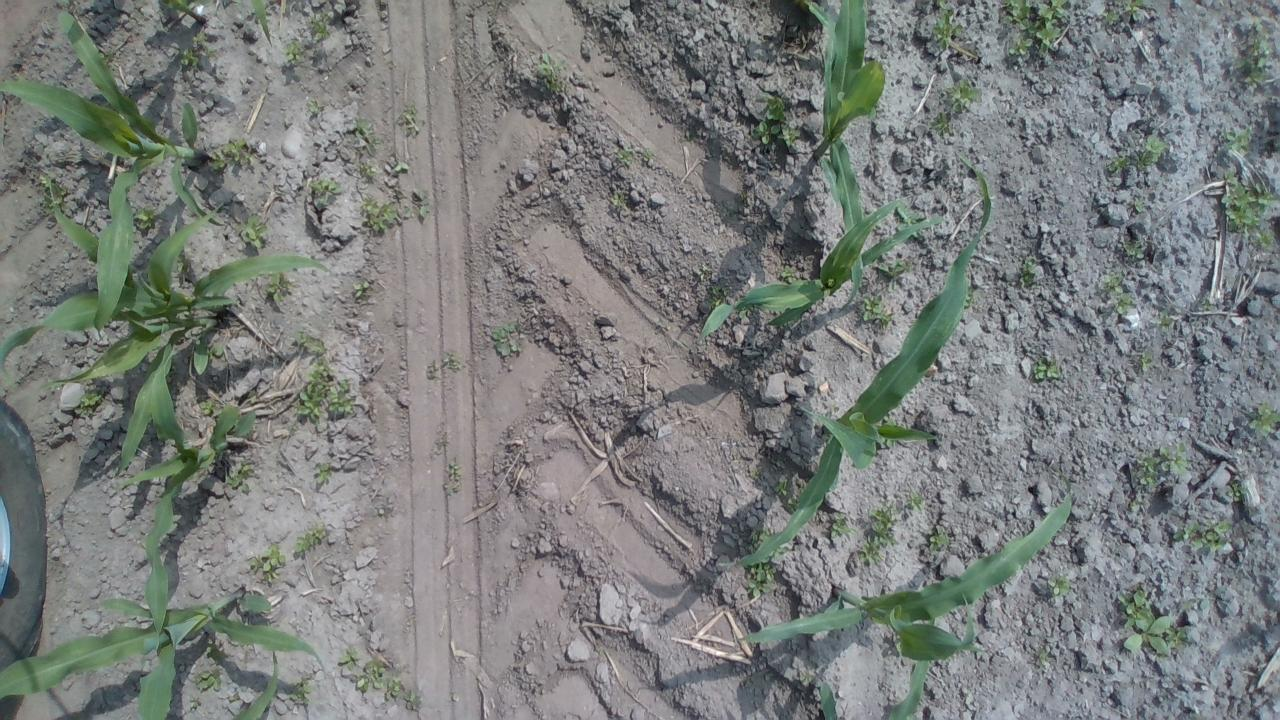Maize: (742, 162, 994, 562), (0, 178, 333, 475), (0, 11, 226, 337), (736, 478, 1076, 660), (116, 343, 256, 655), (1, 587, 328, 720), (700, 204, 944, 338), (802, 0, 888, 310), (821, 655, 930, 720), (166, 0, 276, 45), (232, 648, 282, 720)
Weeds: (1118, 586, 1190, 662), (288, 359, 358, 433), (998, 0, 1070, 56), (1219, 170, 1280, 234), (750, 92, 801, 146), (1136, 442, 1188, 489), (858, 505, 898, 566), (1241, 15, 1270, 92), (928, 0, 964, 49), (1172, 521, 1230, 551), (248, 544, 289, 584), (210, 138, 256, 172), (1104, 270, 1136, 314), (536, 50, 568, 93), (362, 198, 401, 233), (1245, 399, 1280, 438), (750, 526, 786, 562), (943, 78, 981, 112), (264, 270, 298, 306), (860, 294, 894, 329), (878, 256, 912, 291), (224, 459, 256, 496), (893, 199, 923, 238), (39, 173, 66, 216), (240, 213, 272, 249), (1136, 136, 1168, 172), (747, 562, 777, 598), (614, 142, 658, 166), (309, 177, 343, 208), (354, 658, 386, 690), (356, 116, 385, 150), (288, 328, 327, 353), (491, 323, 521, 355), (295, 524, 326, 553), (774, 477, 801, 510), (829, 511, 857, 540), (78, 386, 105, 416), (1225, 126, 1253, 154), (774, 256, 801, 284), (288, 676, 314, 705), (307, 9, 330, 40), (192, 669, 222, 691), (132, 205, 156, 232), (1032, 358, 1060, 381), (927, 526, 950, 554), (338, 646, 362, 672), (1018, 255, 1036, 287), (176, 46, 198, 72), (1047, 574, 1073, 596), (1106, 154, 1130, 177), (930, 110, 951, 136), (1252, 228, 1276, 250), (446, 462, 461, 496), (384, 676, 402, 704), (282, 42, 304, 64), (708, 285, 731, 306), (1122, 238, 1146, 258), (1224, 482, 1248, 502), (206, 638, 223, 666), (403, 105, 417, 138), (906, 490, 926, 511), (353, 280, 371, 302), (1120, 0, 1148, 14), (417, 190, 431, 217), (1158, 310, 1176, 330), (1136, 352, 1156, 370), (96, 46, 115, 64), (207, 342, 225, 361), (446, 349, 463, 369), (2, 366, 16, 389), (48, 378, 63, 399), (393, 158, 410, 176), (316, 462, 332, 481), (359, 161, 377, 177), (1038, 647, 1050, 671), (738, 304, 755, 320), (1128, 495, 1144, 512), (608, 191, 626, 206), (1104, 10, 1122, 25), (198, 399, 214, 415), (878, 434, 896, 448), (1132, 196, 1146, 214), (964, 286, 974, 310), (175, 254, 188, 272), (192, 30, 206, 46), (403, 690, 417, 706), (306, 100, 321, 114), (882, 411, 898, 424), (800, 670, 816, 683), (188, 696, 202, 710), (894, 632, 903, 652), (175, 310, 192, 320), (205, 47, 218, 58), (740, 191, 751, 204), (248, 390, 258, 404), (750, 468, 760, 481), (1201, 302, 1213, 312), (234, 0, 244, 11), (403, 207, 413, 217), (10, 398, 16, 404)
